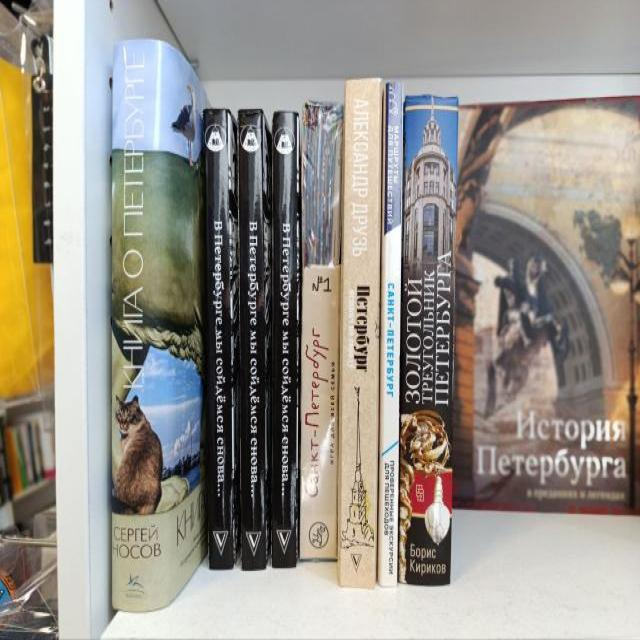book: (111, 39, 164, 611), (398, 95, 458, 585), (341, 78, 382, 589), (302, 100, 342, 562), (205, 108, 235, 569), (239, 108, 265, 570), (272, 111, 298, 569), (381, 82, 402, 586)
